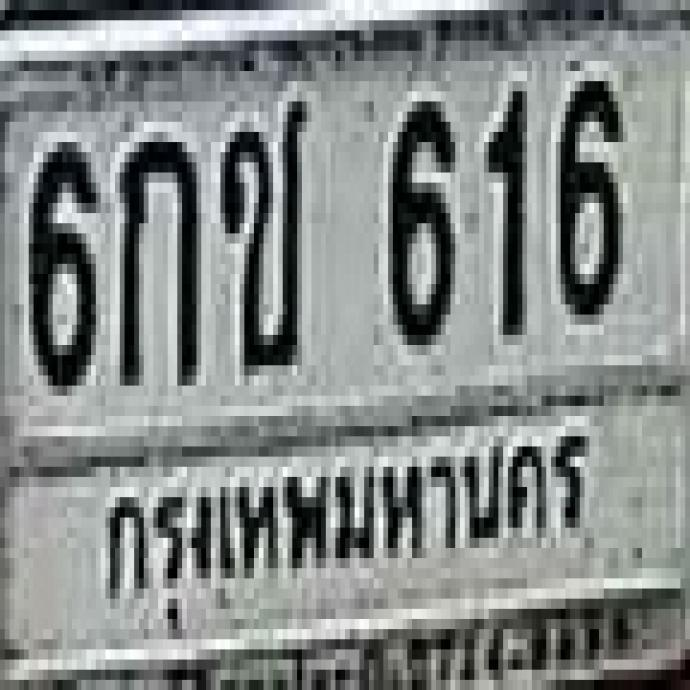1: (484, 81, 522, 325)
6: (26, 134, 92, 385), (555, 71, 617, 314), (387, 92, 449, 334)
A01: (115, 127, 194, 376)
A10: (218, 88, 303, 366)
BKK: (92, 420, 597, 629)
